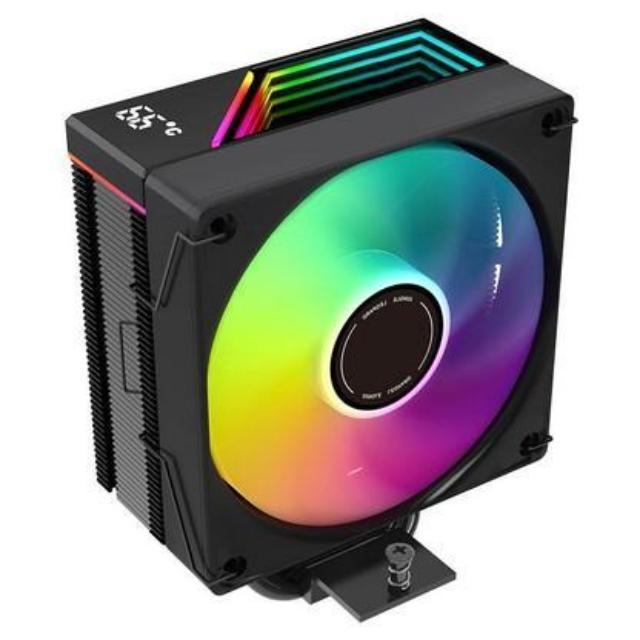CPU_Fan: (61, 9, 584, 624)
